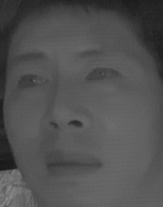eye: (84, 64, 122, 88), (14, 71, 49, 94)
mouth: (44, 146, 104, 182)
